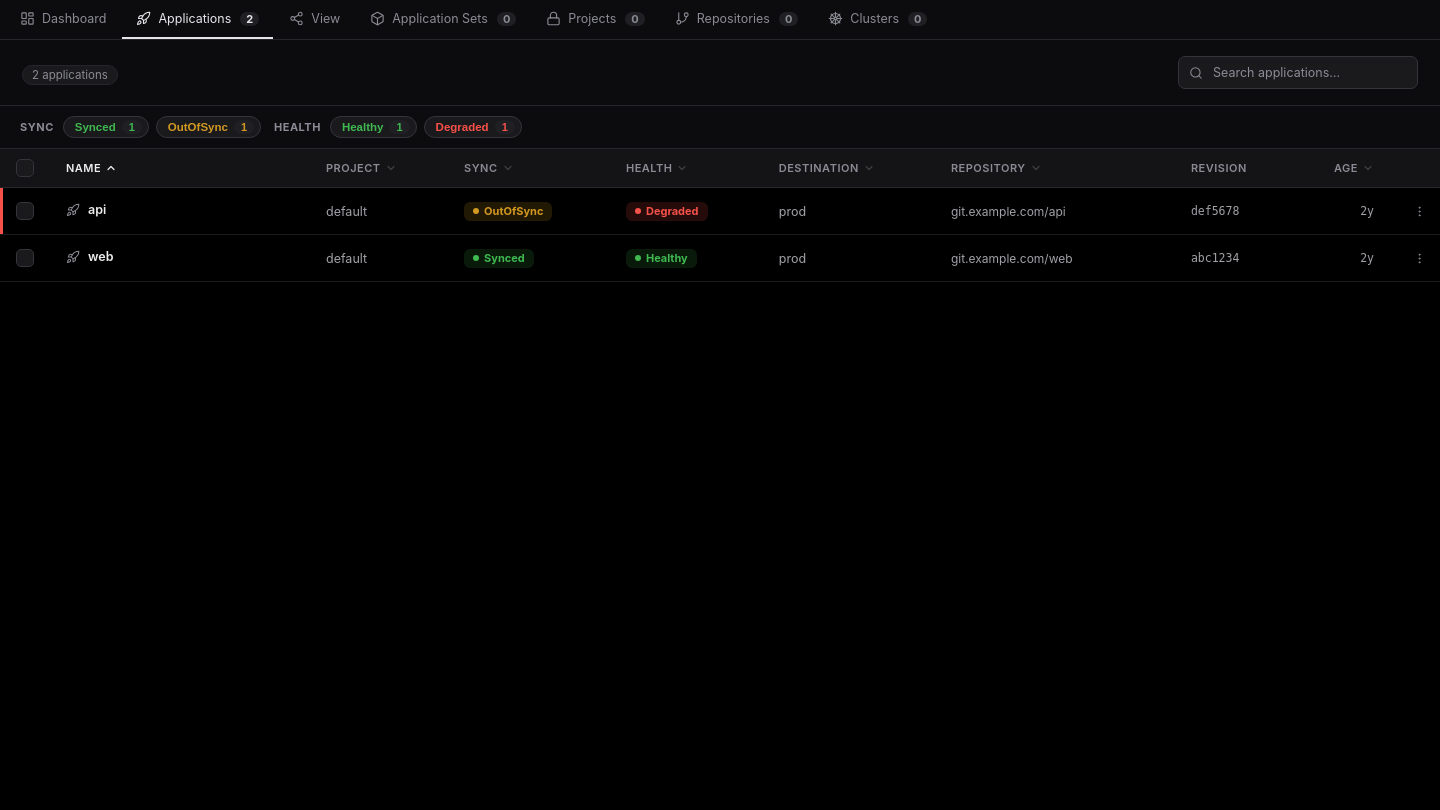
it: ArgoCD applications table › opens the sync ConfirmModal from the row actions menu
The width and height of the screenshot is (1440, 810).
Click the button named "Actions for api".
click(1419, 211)  # box [1406,199,1432,223]
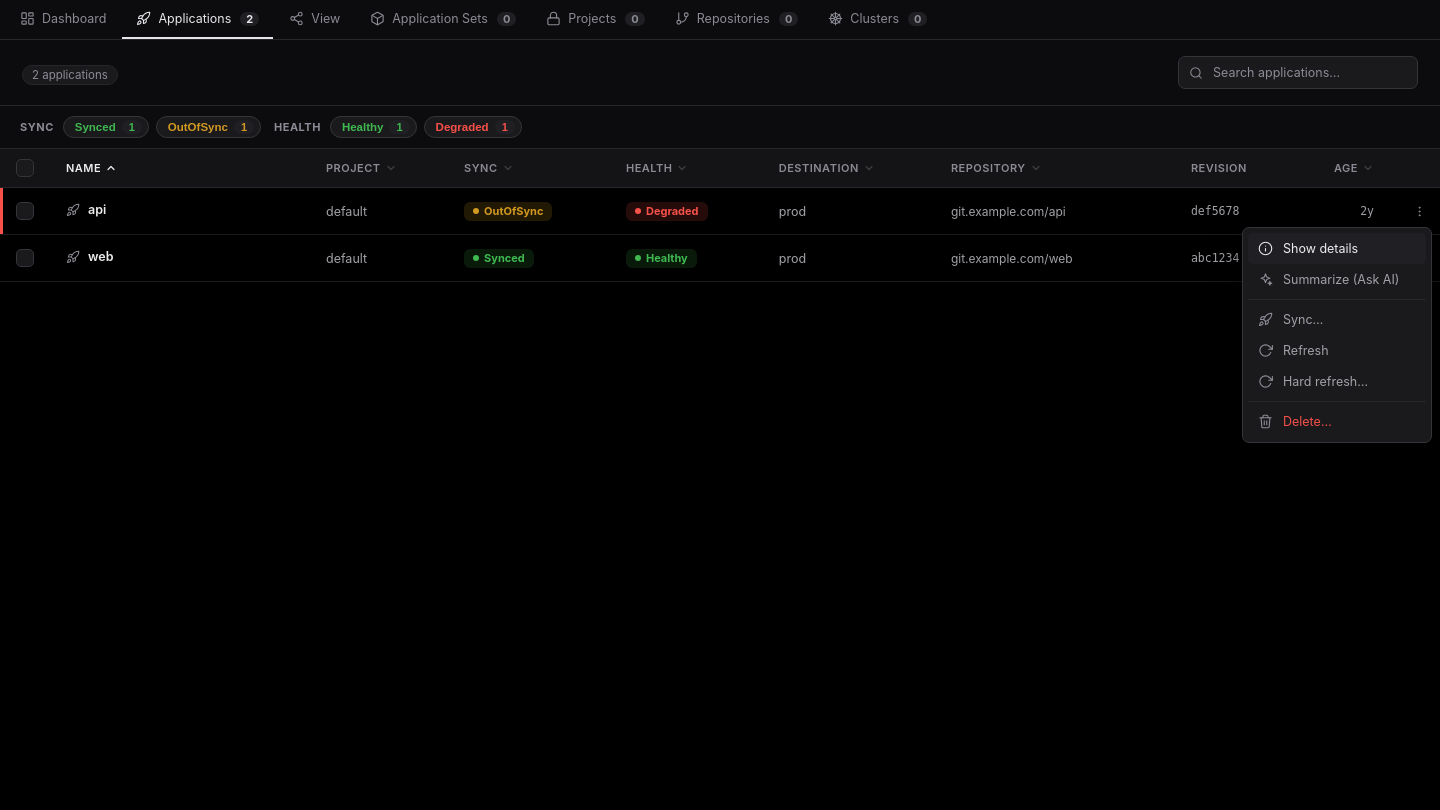
Click the menu item "Sync…".
click(1337, 320)  # box [1248,304,1426,335]
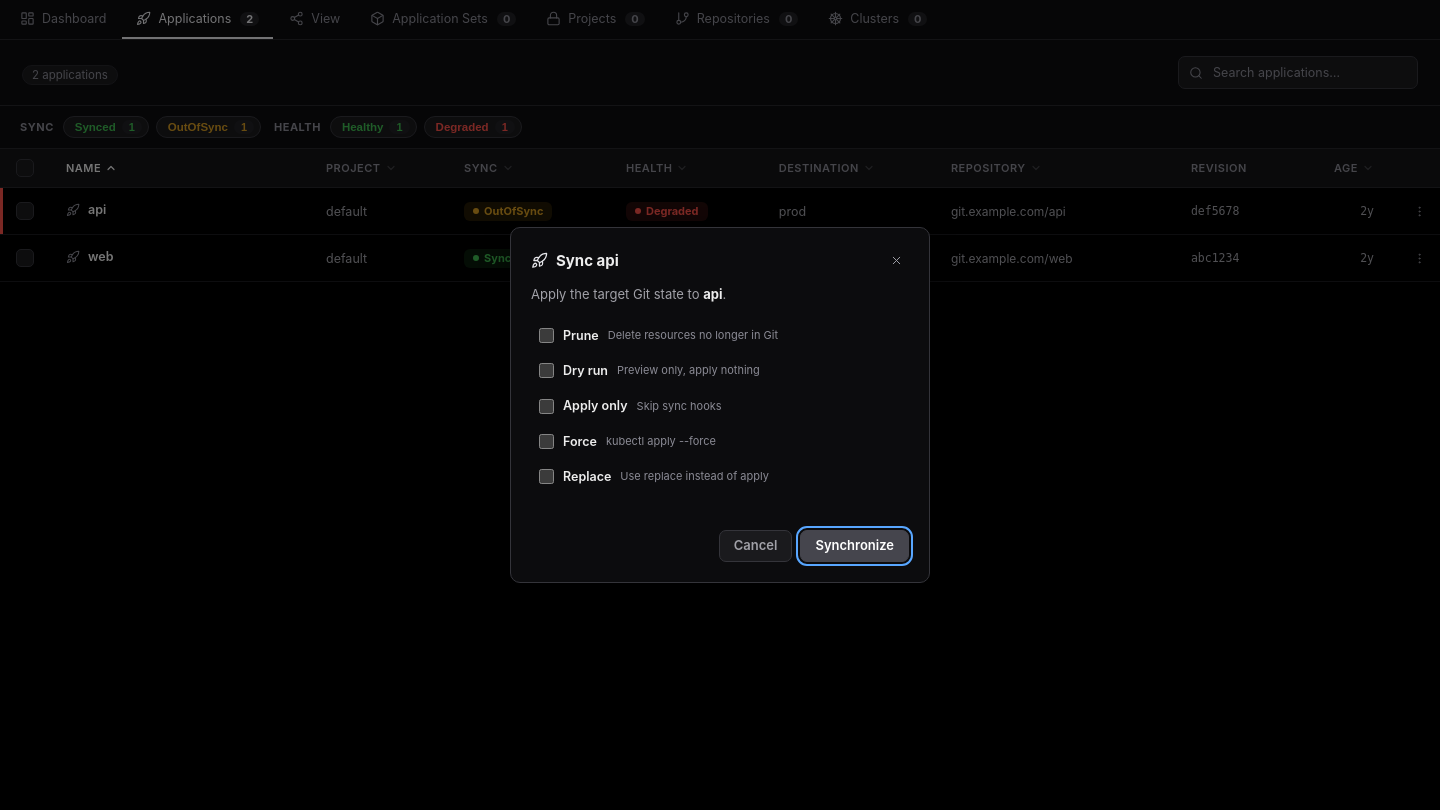
Now the button "Synchronize" is shown, box [800,530,909,562]
Now the checkbox labelled "Prune Delete resources no longer in Git" is not checked, box [539,328,554,343]
Click the button "Cancel".
click(756, 546)  # box [719,530,792,562]
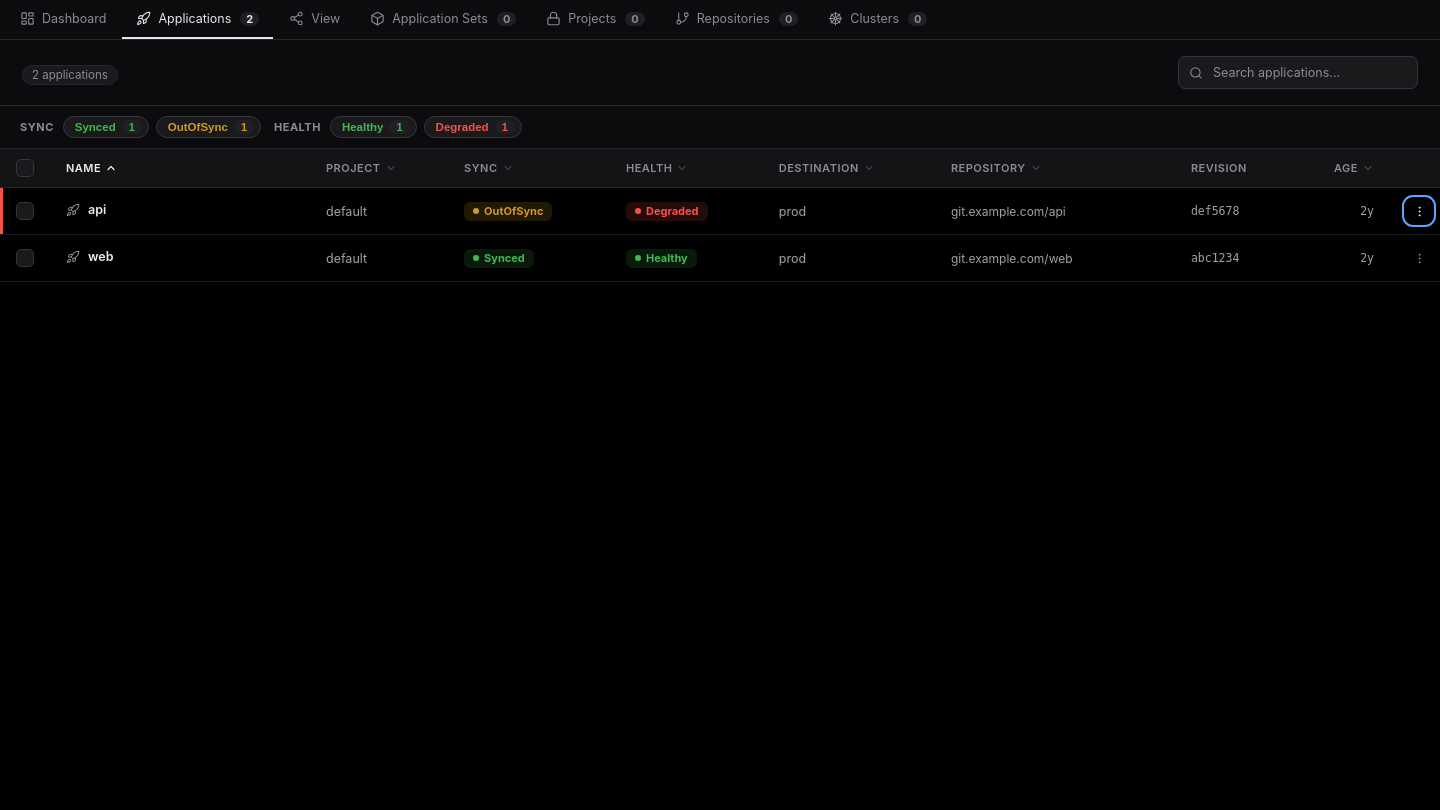
Now the dialog is gone
